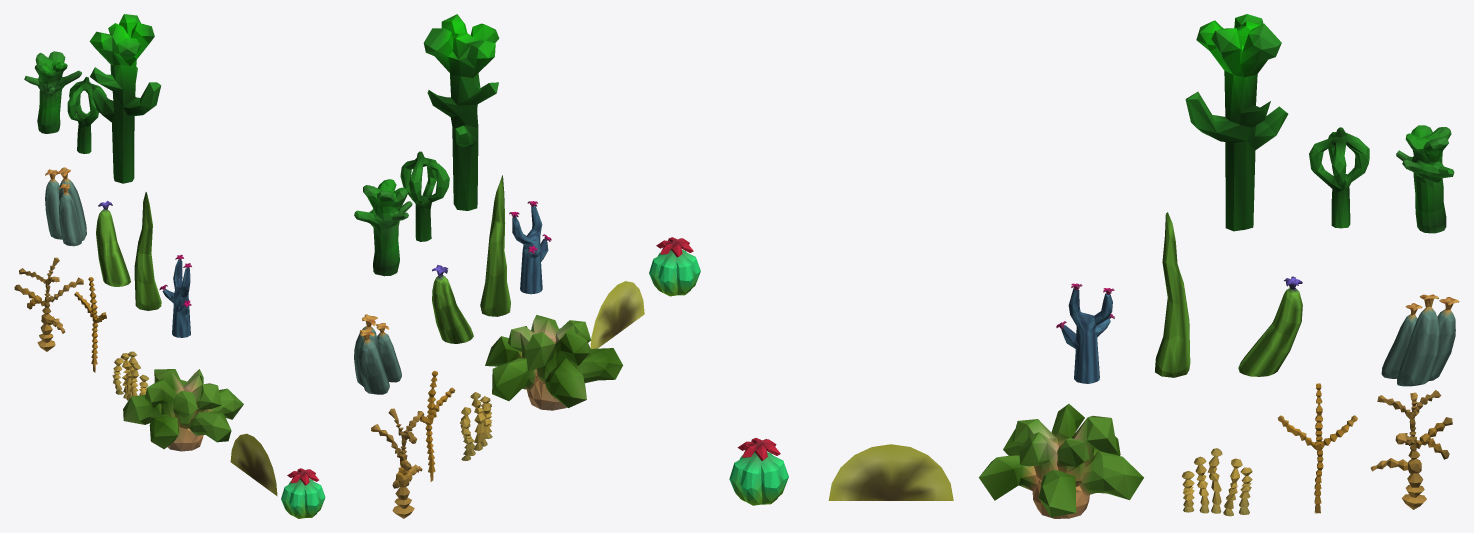
Rendered from desert_plants.glb.
3 views of the same model, side by side, from view 1: azimuth 30°, elevation 25°; view 2: azimuth 150°, elevation 25°; view 3: azimuth 270°, elevation 25° (orthographic). The views are drawn at different scales.
Parts seen in each view (by area): view 1: Cactus_10, Cactus_1_2_2, Cactus_1_1, Cactus_4, Cactus_3, Cactus_12, Cactus_11, Cactus_6, Cactus_5, Cactus_1_2, Cactus_9, Cactus_4_1 (+3 smaller); view 2: Cactus_10, Cactus_1_2_2, Cactus_1_1, Cactus_4, Cactus_1_2, Cactus_12, Cactus_11, Cactus_5, Cactus_3, Cactus_6, Cactus_4_2_2, Cactus_9 (+3 smaller); view 3: Cactus_10, Cactus_1_2_2, Cactus_11, Cactus_1_1, Cactus_4, Cactus_1_2, Cactus_12, Cactus_3, Cactus_5, Cactus_6, Cactus_9, Cactus_4_2 (+3 smaller).
Boxes of the visible parts, x1,y1,x2,y2 form: Cactus_10: (123, 369, 243, 451); Cactus_1_2_2: (89, 14, 161, 183); Cactus_1_1: (24, 51, 81, 133); Cactus_4: (134, 192, 161, 310); Cactus_3: (96, 200, 130, 286); Cactus_12: (281, 468, 325, 518); Cactus_11: (230, 433, 277, 496); Cactus_6: (14, 257, 83, 351); Cactus_5: (159, 254, 191, 337); Cactus_1_2: (67, 76, 106, 153); Cactus_9: (112, 351, 148, 400); Cactus_4_1: (59, 183, 82, 246); Cactus_10: (485, 315, 623, 410); Cactus_1_2_2: (423, 14, 499, 210); Cactus_1_1: (354, 179, 412, 276); Cactus_4: (480, 175, 510, 316); Cactus_1_2: (400, 151, 449, 241); Cactus_12: (649, 237, 700, 296); Cactus_11: (590, 281, 644, 348); Cactus_5: (509, 201, 551, 294); Cactus_3: (432, 265, 473, 343); Cactus_6: (371, 408, 424, 518); Cactus_4_2_2: (358, 328, 389, 394); Cactus_9: (460, 392, 492, 460); Cactus_10: (978, 404, 1143, 518); Cactus_1_2_2: (1185, 14, 1288, 231); Cactus_11: (828, 444, 953, 500); Cactus_1_1: (1396, 125, 1454, 233); Cactus_4: (1155, 212, 1190, 377); Cactus_1_2: (1309, 127, 1369, 228); Cactus_12: (729, 438, 788, 505); Cactus_3: (1238, 276, 1302, 376); Cactus_5: (1056, 283, 1114, 383); Cactus_6: (1370, 390, 1452, 509); Cactus_9: (1182, 448, 1252, 516); Cactus_4_2: (1397, 294, 1439, 386).
Bounding box in the file's own units: 512 × 1803 × 2385.
Materials: 11 (11 with a texture image).
